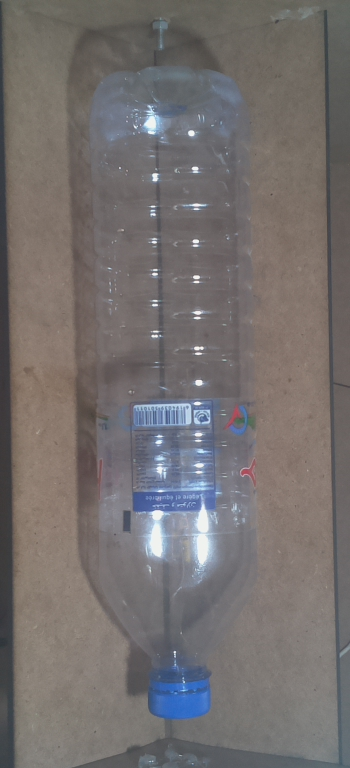Bouteille_1.5L: (80, 58, 271, 732)
